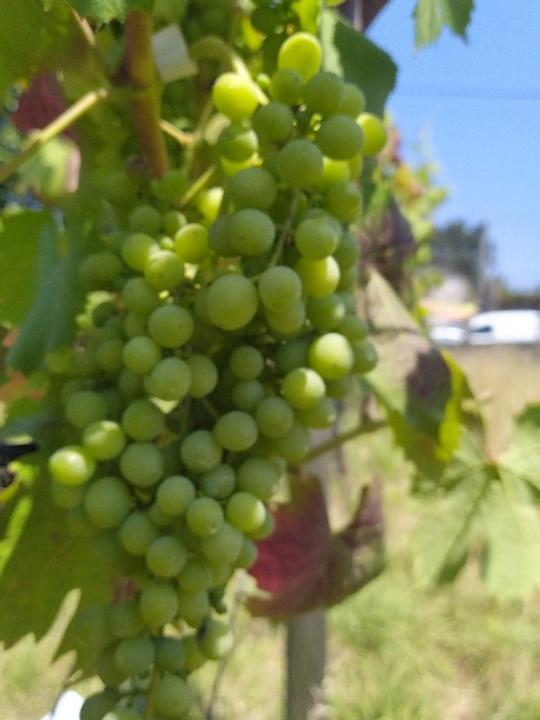grape: (44, 21, 393, 720)
